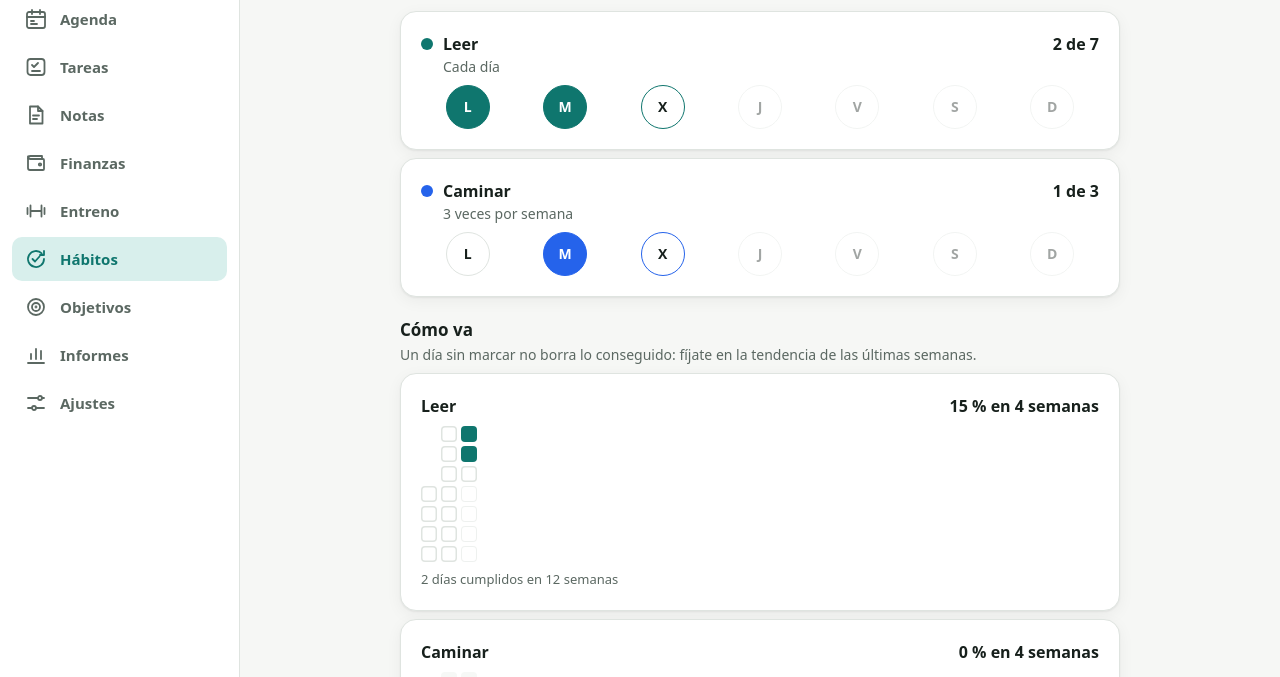
Scenario: hábitos › marca días de esta semana y muestra el progreso sin días futuros
This screenshot has width=1280, height=677.
Expected: the list item "Leer Cada día 2 de 7 L M X J V S D" is shown, [400, 10, 1120, 150]
Expected: the button named "Leer, jue, 15 oct" is disabled, [738, 84, 782, 128]
Click the button named "Leer, mié, 14 oct" at (663, 106), box [641, 84, 685, 128]
(page scrolled)
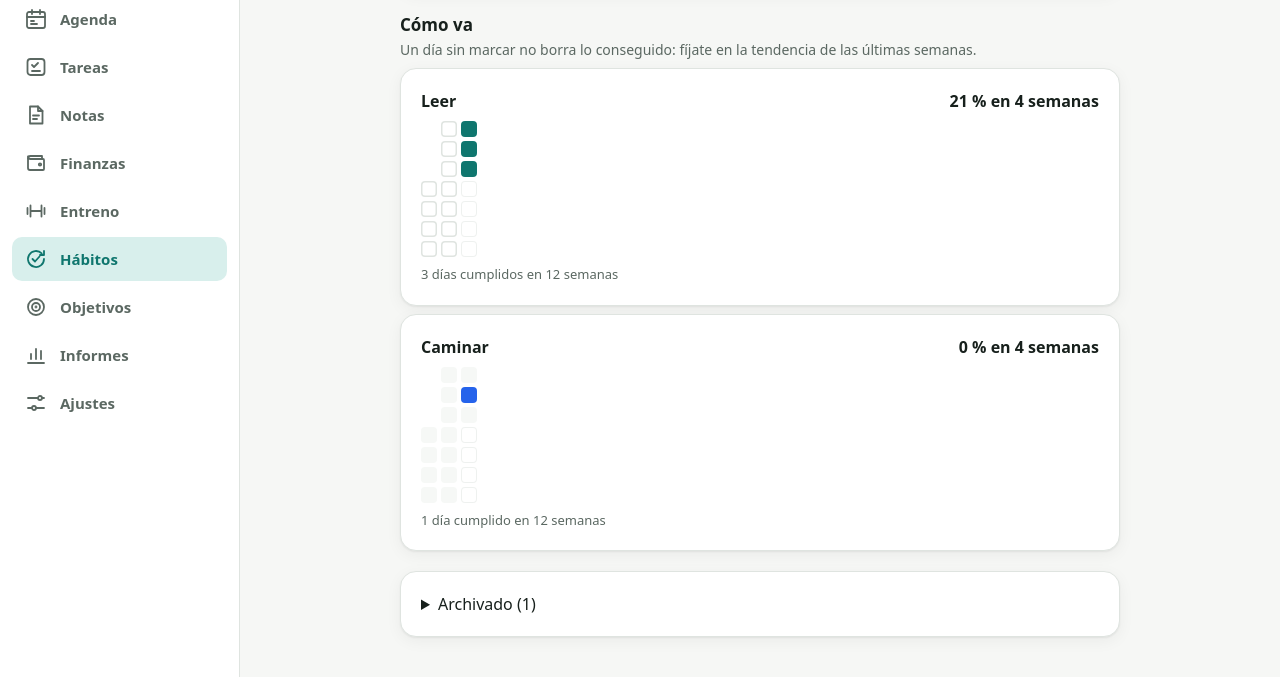
Expected: the heading "Archivado (1)" is shown, [438, 593, 536, 615]
Expected: the element "Cómo va" shows "3 días cumplidos en 12 semanas", [421, 265, 618, 283]
